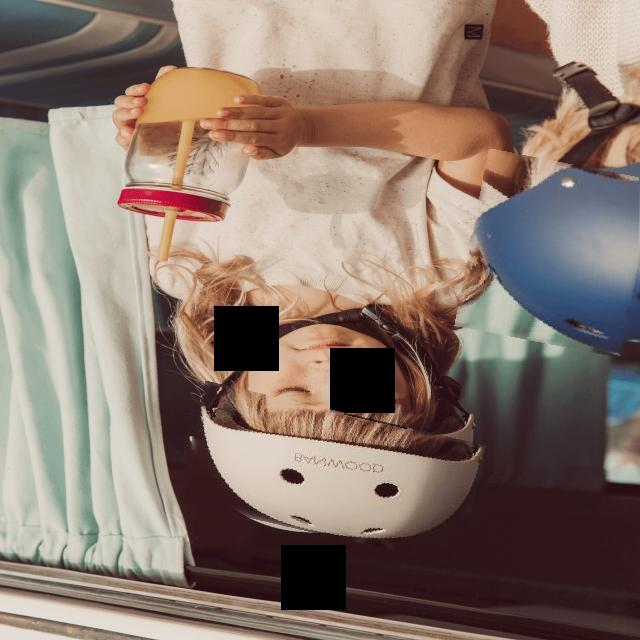helmet: (183, 396, 481, 550), (462, 156, 640, 351)
